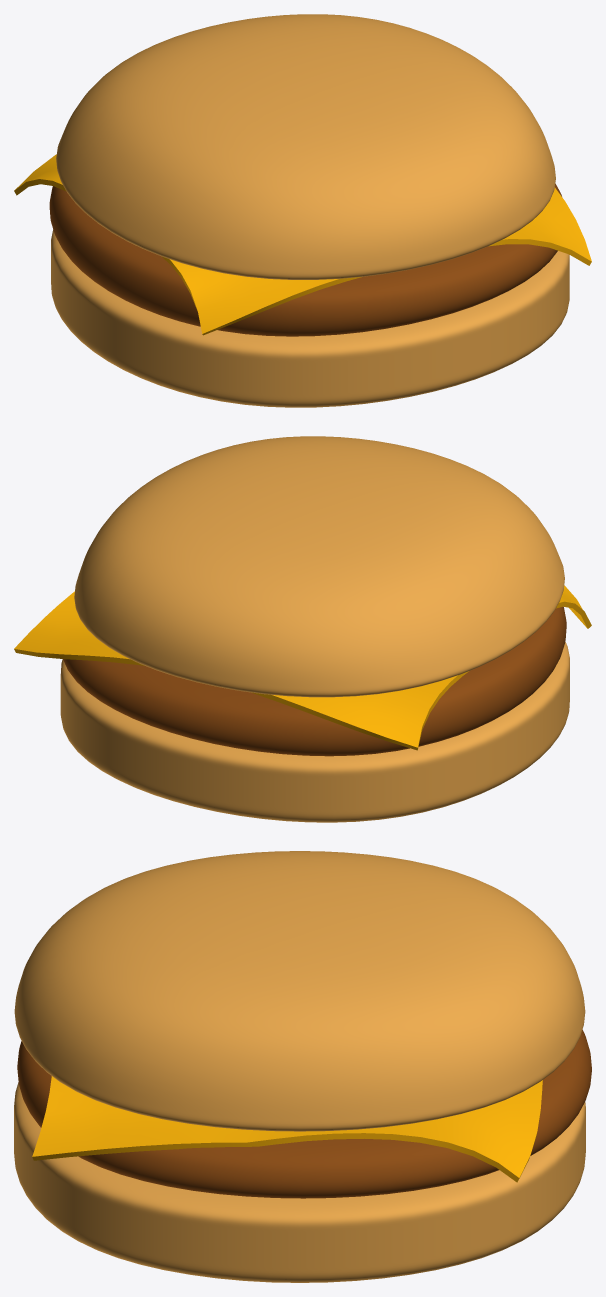
The model's file is burger_compressed.glb.
The picture shows the model from 3 angles, top to bottom: view 1: azimuth 30°, elevation 25°; view 2: azimuth 150°, elevation 25°; view 3: azimuth 270°, elevation 25°; orthographic projection. The views are drawn at different scales.
Visible parts, largest first — view 1: Cube.002, Cube, Cube.001, Plane.003; view 2: Cube.002, Cube, Cube.001, Plane.003; view 3: Cube.002, Cube, Cube.001, Plane.003.
Part boxes in pixels (bbox=[...]): Cube.002: bbox=[56, 14, 555, 279]; Cube: bbox=[51, 229, 569, 407]; Cube.001: bbox=[49, 183, 561, 336]; Plane.003: bbox=[14, 154, 591, 335]; Cube.002: bbox=[74, 436, 564, 697]; Cube: bbox=[60, 642, 569, 822]; Cube.001: bbox=[63, 606, 566, 756]; Plane.003: bbox=[14, 585, 591, 750]; Cube.002: bbox=[14, 851, 585, 1131]; Cube: bbox=[14, 1082, 585, 1282]; Cube.001: bbox=[17, 1030, 591, 1198]; Plane.003: bbox=[32, 1076, 542, 1182].
Bounding box in the file's own units: 9.17 × 4.77 × 9.26.
